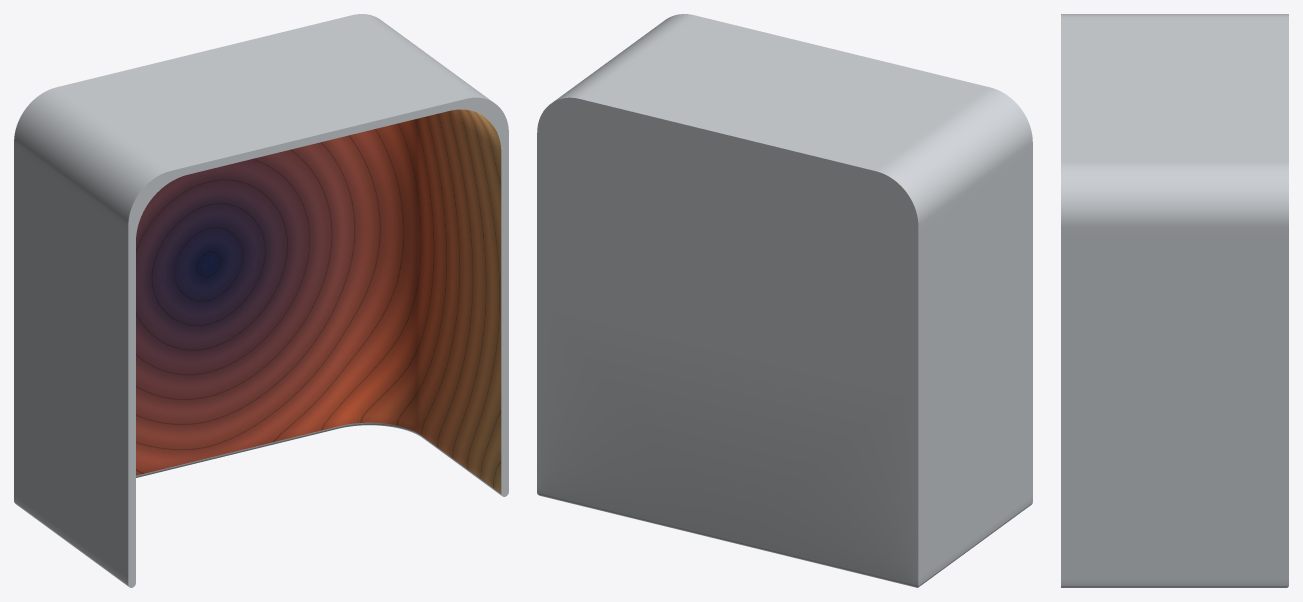
The model's file is Kabine_Wellen.glb.
3 views of the same model, side by side, from view 1: azimuth 30°, elevation 25°; view 2: azimuth 150°, elevation 25°; view 3: azimuth 270°, elevation 25° (orthographic).
Visible parts, largest first — view 1: 3D_Rendering2_ohne_schwarze_striche; view 2: 3D_Rendering2_ohne_schwarze_striche; view 3: 3D_Rendering2_ohne_schwarze_striche.
Boxes of the visible parts, x1,y1,x2,y2 form: 3D_Rendering2_ohne_schwarze_striche: (14,14,508,587); 3D_Rendering2_ohne_schwarze_striche: (537,14,1032,587); 3D_Rendering2_ohne_schwarze_striche: (1061,14,1288,587).
Size of the model in its own units: 6 by 6.14 by 3.12.
2 materials, 1 textured.
